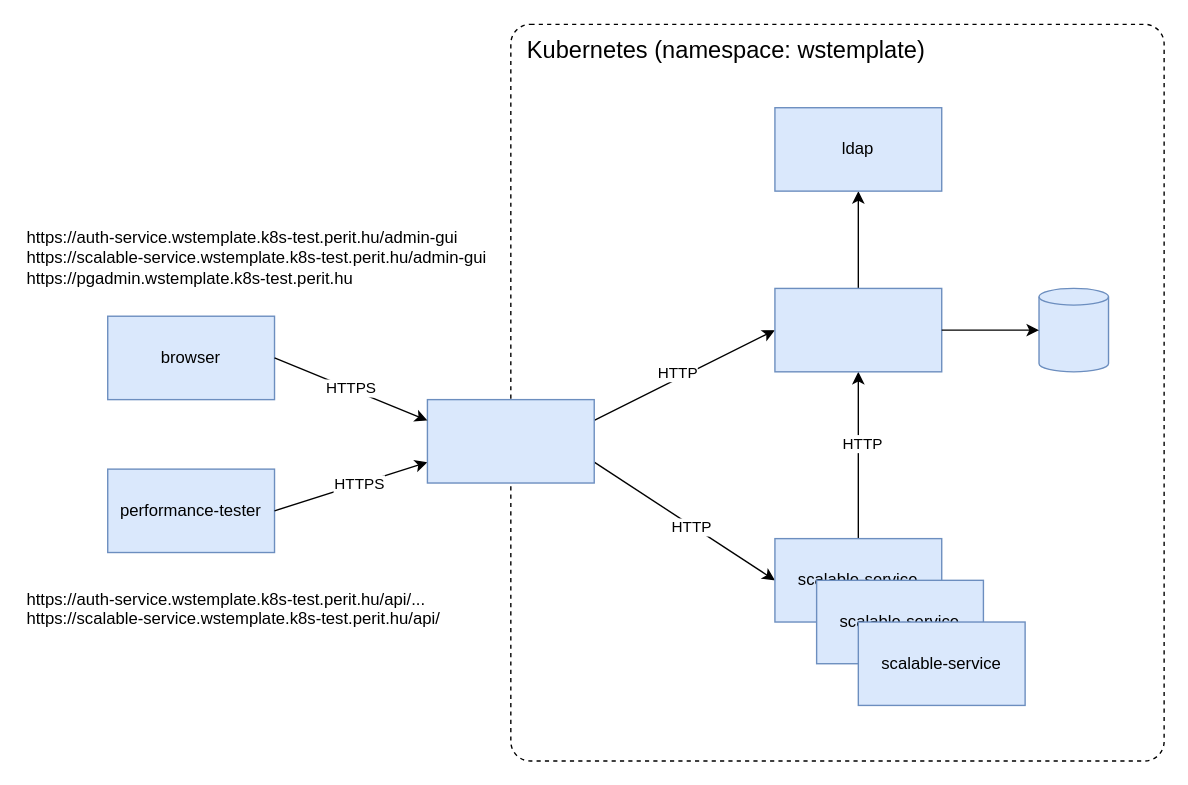
This 1188x785 diagram has some shape labels left out. Each missing label, with the box of its shape:
auth-service: (774, 287, 942, 372)
nginx (api gateway): (426, 398, 594, 483)
